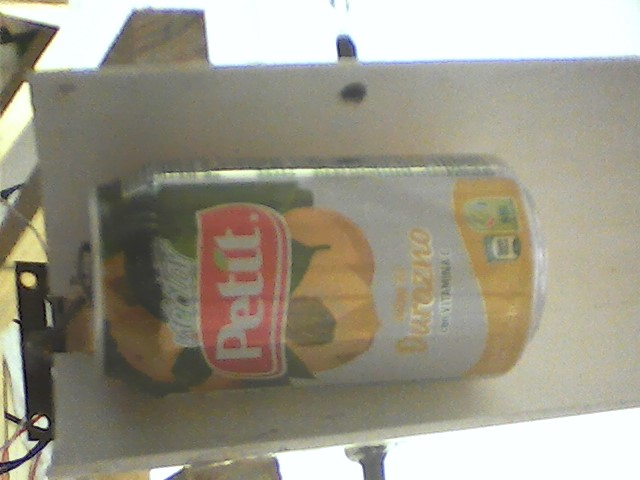lata: (82, 149, 553, 413)
